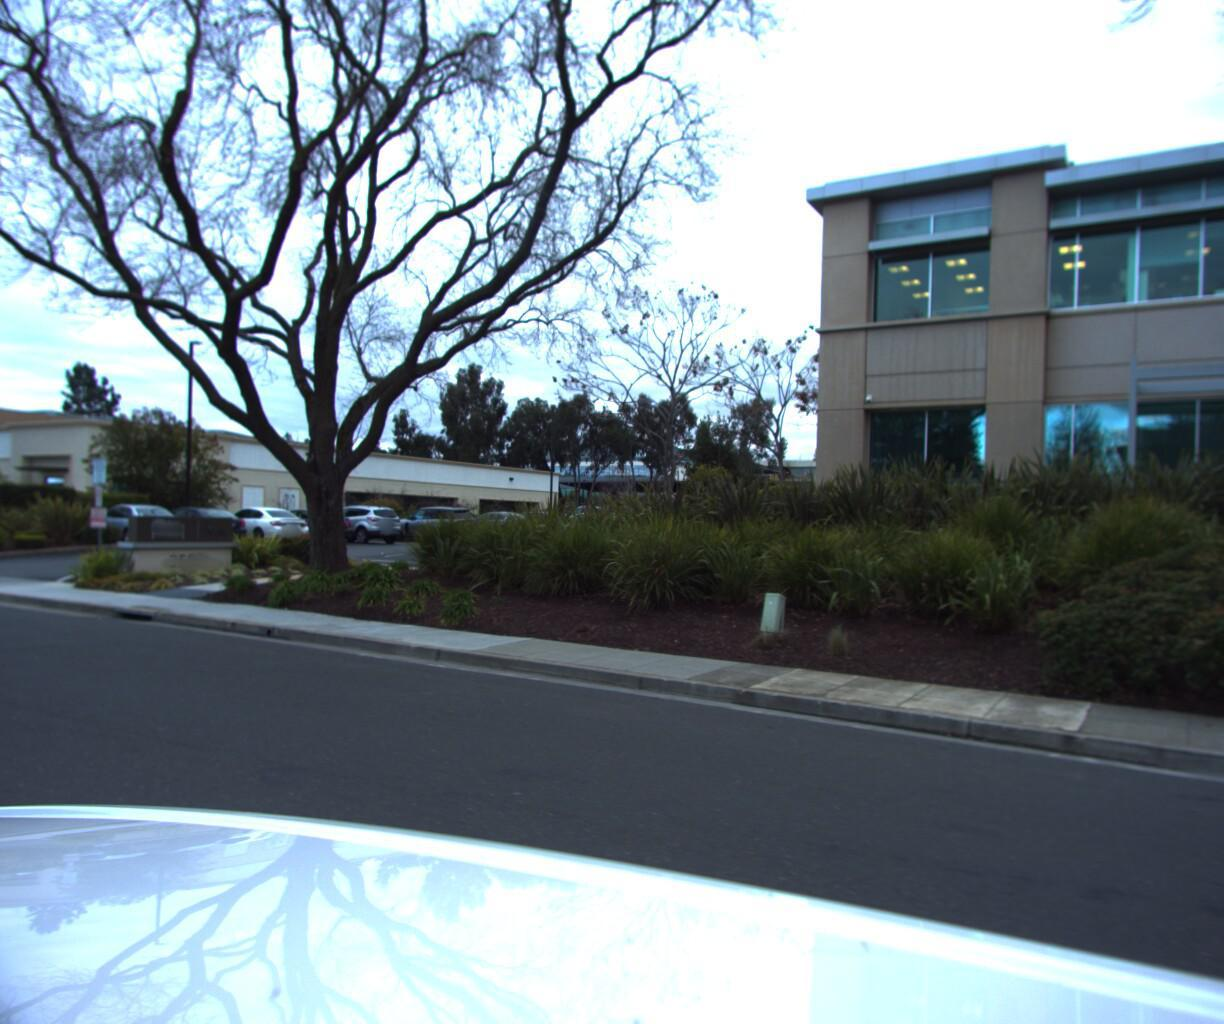car: (76, 502, 193, 550)
